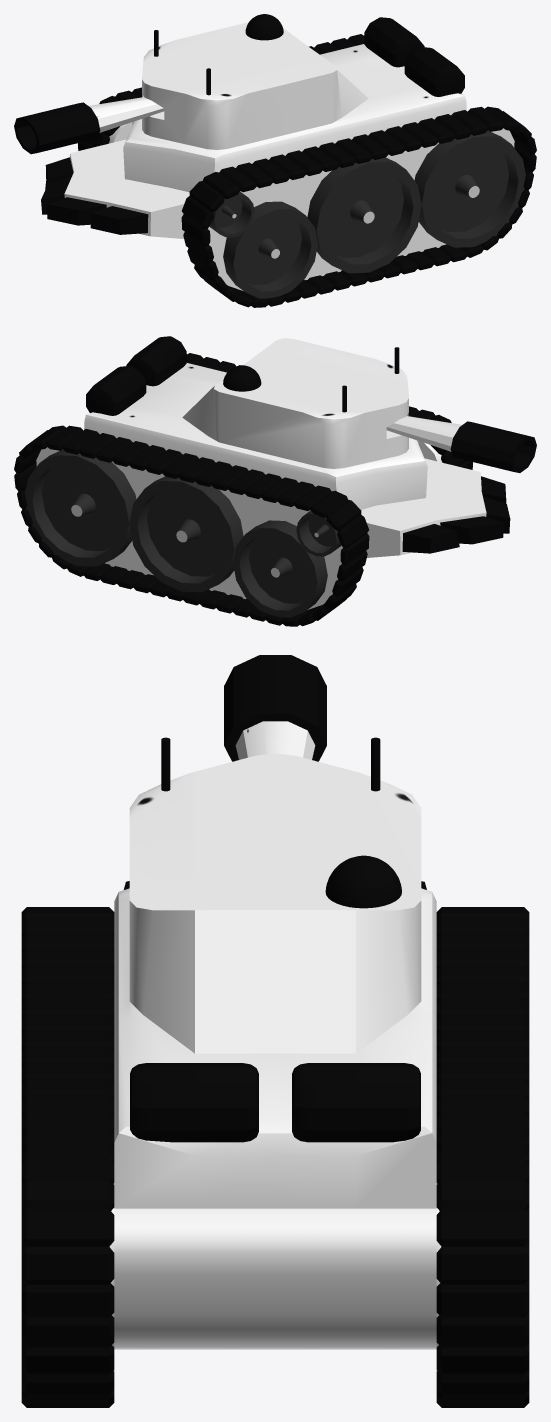
Rendered from PTTank.fbx.
3 views of the same model, one above another, from view 1: azimuth 30°, elevation 25°; view 2: azimuth 150°, elevation 25°; view 3: azimuth 270°, elevation 25° (orthographic). The views are drawn at different scales.
Visible parts, largest first — view 1: Cube, Cylinder.003, Cylinder, Cylinder.002, Cube.007, Cube.006, Cube.008, Cube.005, Cube.009, Cube.014, Cube.003, Cube.016 (+15 smaller); view 2: Cube, Cylinder.003, Cylinder, Cylinder.002, Cube.053, Cube.052, Cube.054, Cube.051, Cube.055, Cube.060, Cube.066, Cube.058 (+15 smaller); view 3: Cube, Cylinder.002, Cylinder, Cube.025, Cube.073, Cube.024, Cube.072, Cube.026, Cube.074, Cube.027, Cube.075, Cube.023 (+41 smaller).
Part boxes in pixels (bbox=[...]): Cube: bbox=[41, 14, 514, 290]; Cylinder.003: bbox=[209, 130, 525, 298]; Cylinder: bbox=[14, 97, 164, 154]; Cylinder.002: bbox=[364, 17, 464, 96]; Cube.007: bbox=[189, 181, 224, 211]; Cube.006: bbox=[182, 196, 213, 228]; Cube.008: bbox=[202, 172, 239, 198]; Cube.005: bbox=[181, 214, 210, 246]; Cube.009: bbox=[219, 166, 256, 192]; Cube.014: bbox=[335, 138, 372, 163]; Cube.003: bbox=[302, 146, 339, 171]; Cube.016: bbox=[368, 130, 405, 155]; Cube: bbox=[36, 338, 510, 609]; Cylinder.003: bbox=[25, 449, 341, 617]; Cylinder: bbox=[386, 416, 536, 472]; Cylinder.002: bbox=[86, 336, 186, 415]; Cube.053: bbox=[326, 500, 361, 530]; Cube.052: bbox=[337, 515, 368, 547]; Cube.054: bbox=[311, 490, 348, 517]; Cube.051: bbox=[340, 533, 369, 565]; Cube.055: bbox=[294, 485, 331, 510]; Cube.060: bbox=[211, 465, 248, 490]; Cube.066: bbox=[112, 441, 149, 466]; Cube.058: bbox=[245, 473, 281, 498]; Cube: bbox=[109, 737, 441, 1371]; Cylinder.002: bbox=[130, 1063, 420, 1142]; Cylinder: bbox=[224, 655, 326, 761]; Cube.025: bbox=[21, 1246, 114, 1284]; Cube.073: bbox=[436, 1246, 529, 1284]; Cube.024: bbox=[21, 1209, 114, 1246]; Cube.072: bbox=[436, 1209, 529, 1246]; Cube.026: bbox=[21, 1283, 114, 1317]; Cube.074: bbox=[436, 1283, 529, 1317]; Cube.027: bbox=[21, 1315, 114, 1347]; Cube.075: bbox=[436, 1315, 529, 1347]; Cube.023: bbox=[21, 1180, 114, 1210].
Bounding box in the file's own units: 807 × 376 × 396.
